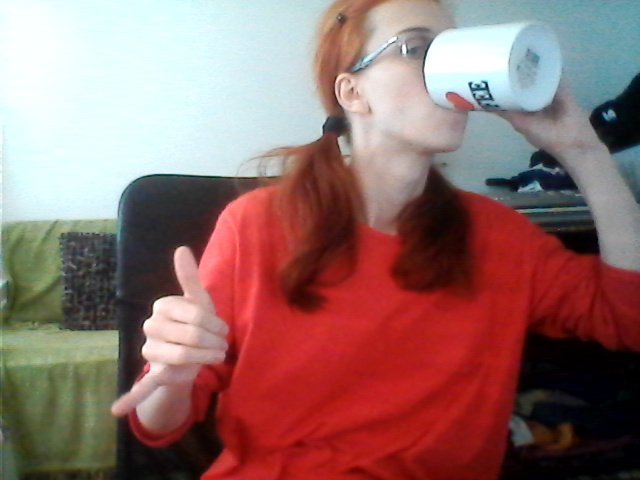ano: (108, 246, 253, 419)
